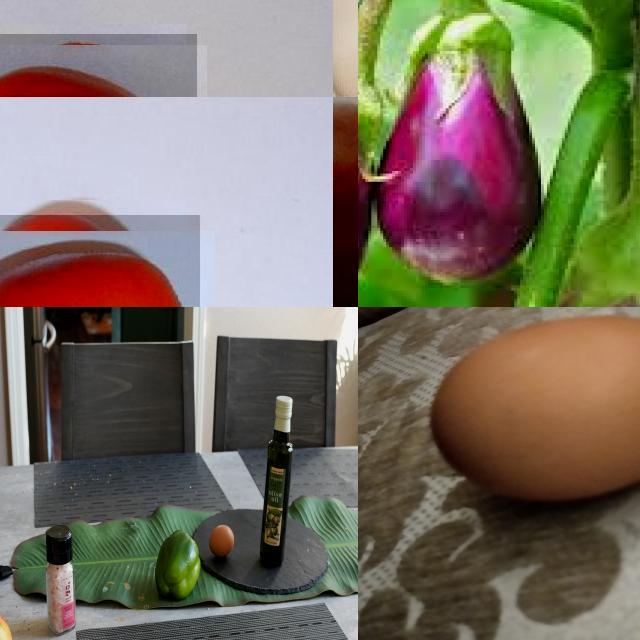bell_pepper: (154, 528, 207, 604)
egg: (417, 311, 640, 508), (207, 522, 237, 562)
eggplant: (378, 9, 538, 284), (545, 199, 640, 308)
tomato: (1, 216, 201, 308), (1, 35, 197, 98)
